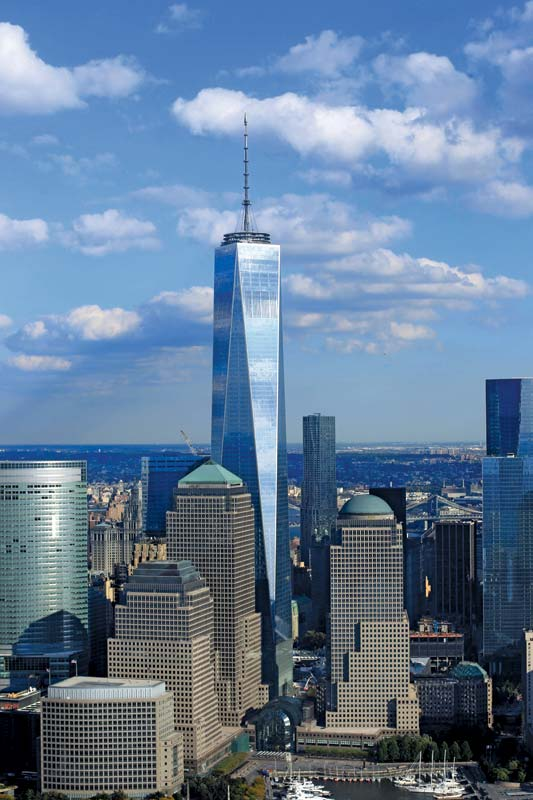wtc: (210, 115, 292, 678)
